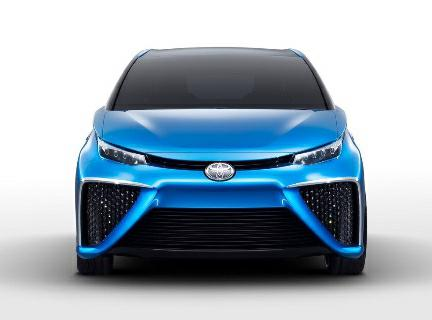丰田-FCV: (67, 41, 375, 282)
